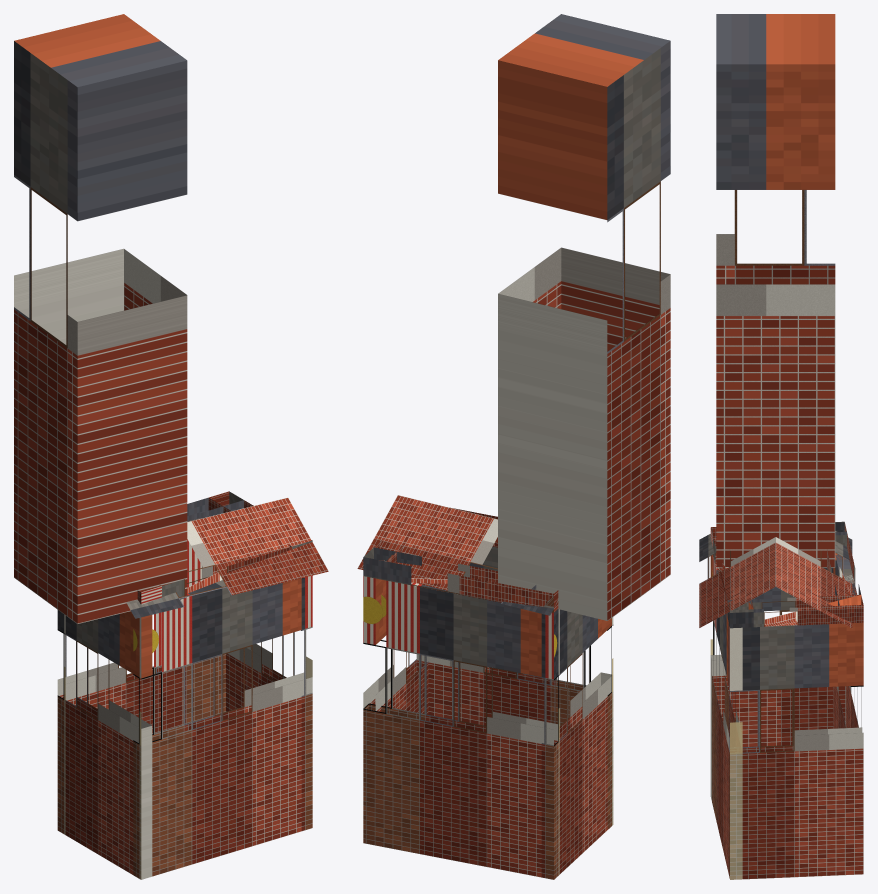
3 views of the same model, side by side, from view 1: azimuth 30°, elevation 25°; view 2: azimuth 150°, elevation 25°; view 3: azimuth 270°, elevation 25° (orthographic). The views are drawn at different scales.
Parts seen in each view (by area): view 1: 238625184__chimney_0_xb, 238625184__wall_3_xb, 238625184__wall_2_xb, 238625184_roof_-1_xb, 238625184__wall_1_xb, 238625184__wall_0_xb, 238625184__cornice_3, 238625184__cornice_1; view 2: 238625184__chimney_0_xb, 238625184__wall_1_xb, 238625184__wall_2_xb, 238625184__wall_3_xb, 238625184_roof_1_xb, 238625184__cornice_1, 238625184__wall_0_xb; view 3: 238625184__chimney_0_xb, 238625184__wall_0_xb, 238625184__wall_2_xb, 238625184__wall_3_xb, 238625184_roof_-1_xb, 238625184_roof_1_xb, 238625184__cornice_0, 238625184__wall_1_xb, 238625184__cornice_3, 238625184__cornice_1, 238625184__wall_3_xf, 238625184__cornice_2.
Part boxes in pixels (x1,y1,x2,y2): 238625184__chimney_0_xb: (14, 14, 187, 623); 238625184__wall_3_xb: (133, 578, 312, 879); 238625184__wall_2_xb: (57, 610, 152, 879); 238625184_roof_-1_xb: (126, 497, 328, 618); 238625184__wall_1_xb: (57, 539, 225, 834); 238625184__wall_0_xb: (226, 575, 312, 831); 238625184__cornice_3: (162, 547, 291, 599); 238625184__cornice_1: (187, 491, 243, 521); 238625184__chimney_0_xb: (498, 14, 670, 620); 238625184__wall_1_xb: (363, 580, 559, 879); 238625184__wall_2_xb: (541, 609, 612, 879); 238625184__wall_3_xb: (416, 546, 613, 829); 238625184_roof_1_xb: (357, 495, 558, 615); 238625184__cornice_1: (363, 547, 558, 612); 238625184__wall_0_xb: (363, 576, 428, 714); 238625184__chimney_0_xb: (716, 14, 835, 567); 238625184__wall_0_xb: (728, 622, 863, 879); 238625184__wall_2_xb: (710, 555, 845, 800); 238625184__wall_3_xb: (710, 555, 742, 879); 238625184_roof_-1_xb: (699, 534, 775, 627); 238625184_roof_1_xb: (776, 531, 852, 627); 238625184__cornice_0: (727, 594, 863, 627); 238625184__wall_1_xb: (833, 553, 863, 728); 238625184__cornice_3: (713, 537, 753, 628); 238625184__cornice_1: (827, 522, 860, 605); 238625184__wall_3_xf: (711, 639, 742, 753); 238625184__cornice_2: (710, 521, 846, 554).
Bounding box in the file's own units: 0.3307 × 1.05 × 0.2068.
Materials: 1 (1 with a texture image).
